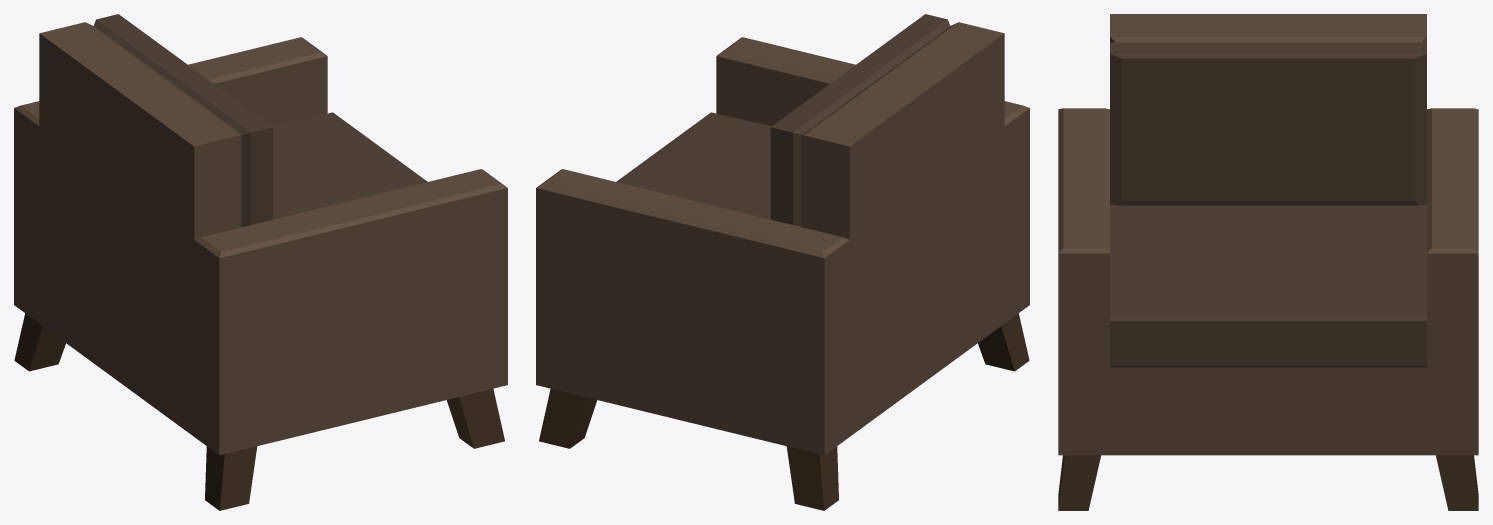
File: MiniSofa.fbx
3 renders of one model, left to right at view 1: azimuth 30°, elevation 25°; view 2: azimuth 150°, elevation 25°; view 3: azimuth 270°, elevation 25°, orthographic. The views are drawn at different scales.
Visible parts, largest first — view 1: MiniSofa; view 2: MiniSofa; view 3: MiniSofa.
Part boxes in pixels (<box>): MiniSofa: <box>14,14,507,510</box>; MiniSofa: <box>536,14,1029,510</box>; MiniSofa: <box>1058,14,1478,510</box>.
Bounding box in the file's own units: 117 × 131 × 141.
